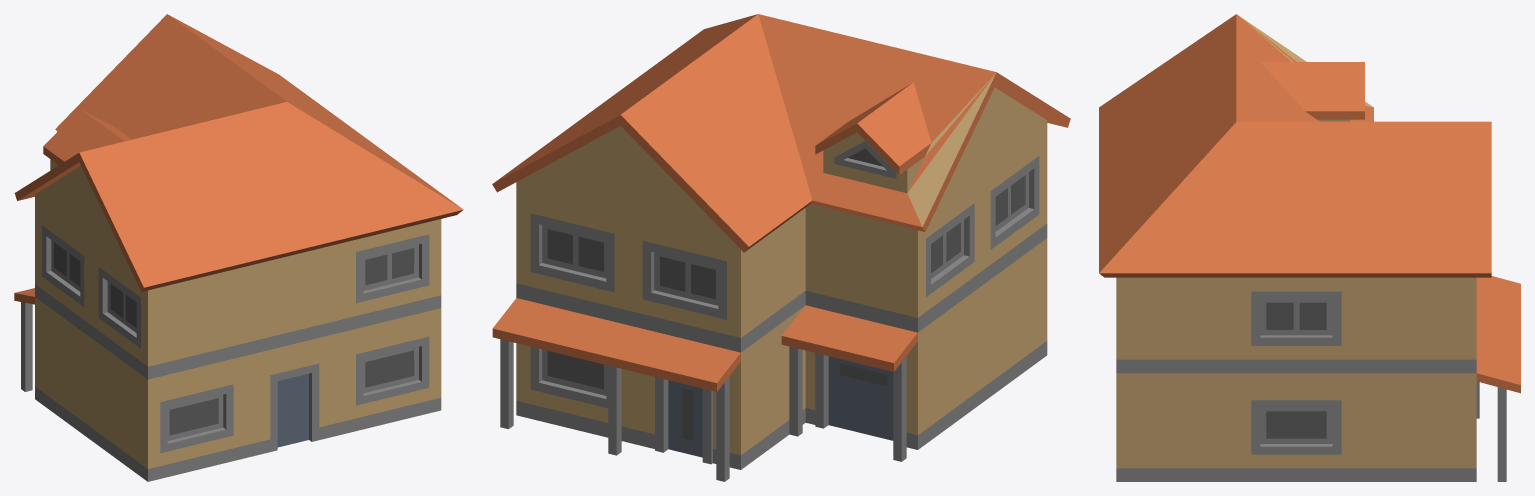
Rendered from SM_Suburb_House_01.fbx.
3 renders of one model, left to right at view 1: azimuth 30°, elevation 25°; view 2: azimuth 150°, elevation 25°; view 3: azimuth 270°, elevation 25°, orthographic. The views are drawn at different scales.
Visible parts, largest first — view 1: SM_Suburb_House_01; view 2: SM_Suburb_House_01; view 3: SM_Suburb_House_01.
Part boxes in pixels (box(x1,y1,x2,y2)): SM_Suburb_House_01: box(14, 14, 463, 481); SM_Suburb_House_01: box(492, 14, 1070, 481); SM_Suburb_House_01: box(1099, 14, 1520, 481).
Size of the model in its own units: 942 by 819 by 1012.
